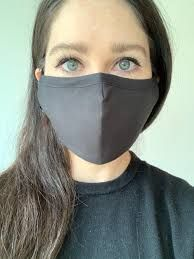with-mask: (29, 3, 166, 163)
